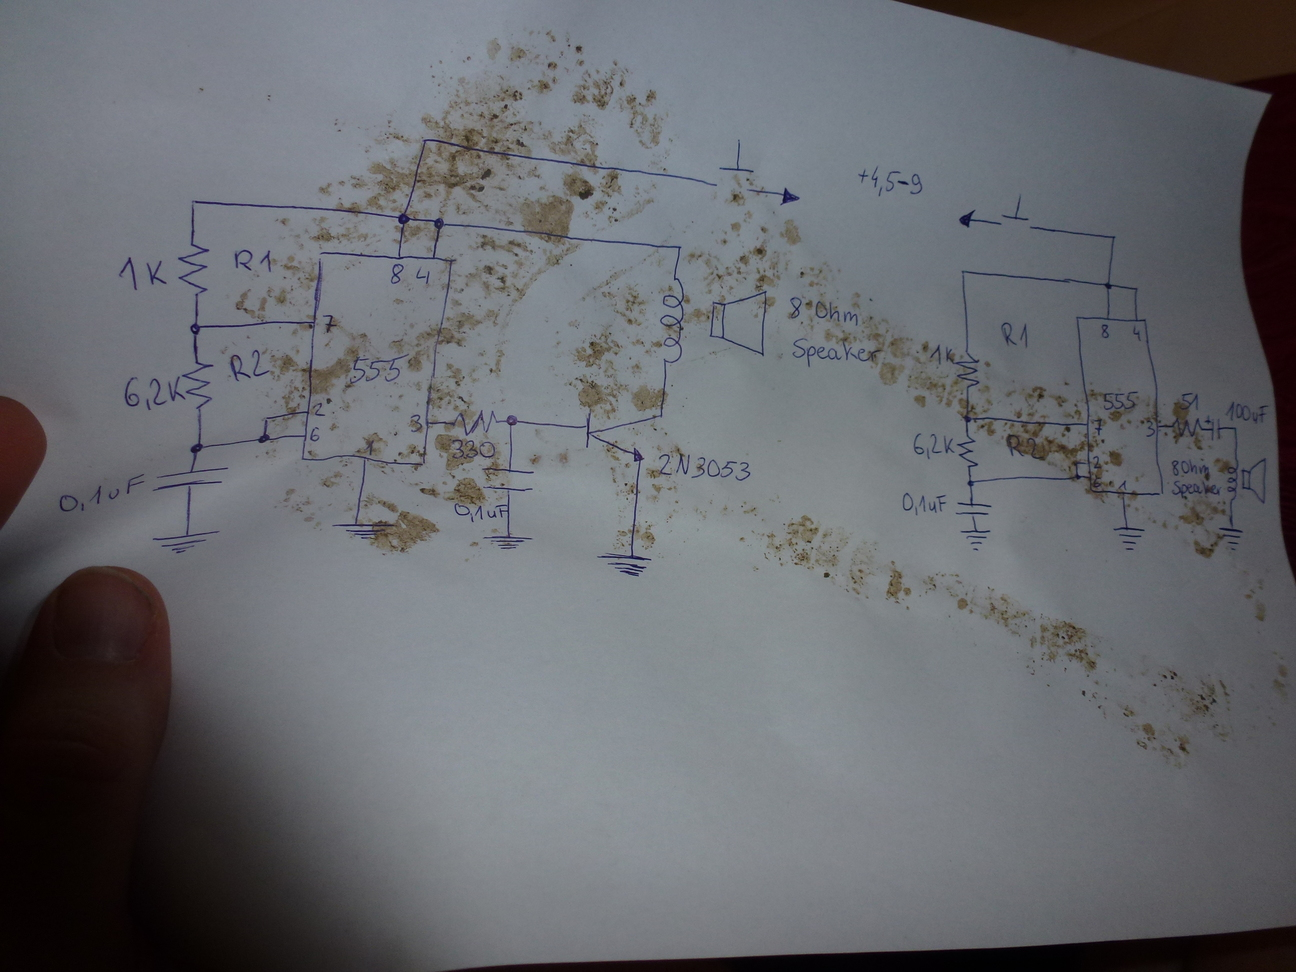capacitor.polarized: (1204, 415, 1223, 442)
capacitor.unpolarized: (150, 463, 234, 500), (483, 461, 537, 492), (953, 499, 994, 518)
gnd: (151, 530, 219, 557), (329, 519, 400, 543), (596, 551, 654, 579), (1201, 525, 1245, 554), (1110, 524, 1148, 553), (480, 535, 533, 554), (958, 526, 992, 553)
integrated_circuit: (298, 249, 455, 468), (1074, 314, 1167, 498)
junction: (184, 318, 205, 337), (502, 411, 520, 429), (188, 440, 205, 456), (395, 210, 411, 228), (431, 215, 447, 231), (958, 409, 974, 425), (186, 195, 200, 210), (255, 432, 270, 445), (963, 476, 978, 488), (258, 414, 272, 425), (1102, 280, 1114, 292), (672, 241, 685, 252), (1108, 231, 1120, 242), (957, 266, 969, 278), (418, 135, 431, 145), (1130, 284, 1140, 293), (1071, 473, 1080, 483), (1073, 459, 1082, 468), (1232, 425, 1240, 433)
resistor: (176, 239, 211, 298), (179, 359, 213, 412), (453, 405, 496, 436), (955, 348, 982, 392), (953, 429, 978, 467), (1169, 415, 1203, 438)
speaker: (655, 273, 771, 368), (1225, 457, 1268, 505)
switch: (707, 134, 760, 195), (995, 190, 1035, 233)
text: (60, 473, 147, 515), (791, 335, 883, 370), (656, 450, 753, 483), (787, 294, 860, 329), (122, 374, 186, 412), (225, 347, 290, 381), (855, 164, 923, 197), (347, 352, 411, 386), (115, 254, 171, 291), (228, 245, 289, 278), (450, 497, 507, 523), (898, 490, 949, 516), (910, 431, 955, 459), (1005, 432, 1046, 461), (450, 437, 497, 461), (999, 319, 1033, 351), (1170, 479, 1222, 499), (1101, 388, 1140, 414), (1224, 404, 1270, 424), (1170, 459, 1211, 477), (929, 342, 956, 368), (1178, 390, 1202, 414), (388, 261, 409, 286), (319, 311, 341, 335), (411, 266, 431, 288), (309, 423, 325, 444), (407, 412, 422, 433), (1091, 417, 1106, 436), (1143, 418, 1156, 439), (311, 401, 328, 419), (364, 438, 377, 457), (1098, 322, 1111, 338), (1116, 478, 1131, 492), (1131, 324, 1143, 339), (1091, 454, 1103, 470), (1093, 475, 1102, 489)
transistor: (583, 406, 665, 463)
vss: (776, 184, 804, 209), (954, 207, 980, 231)
